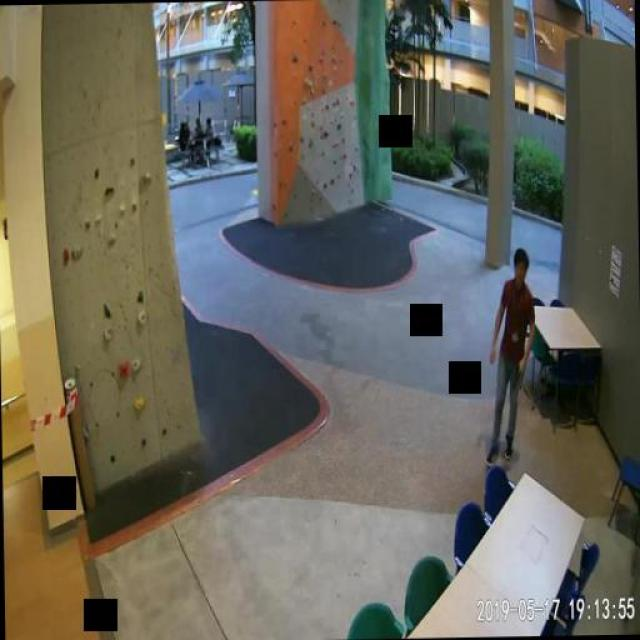gun: (512, 361, 522, 389)
